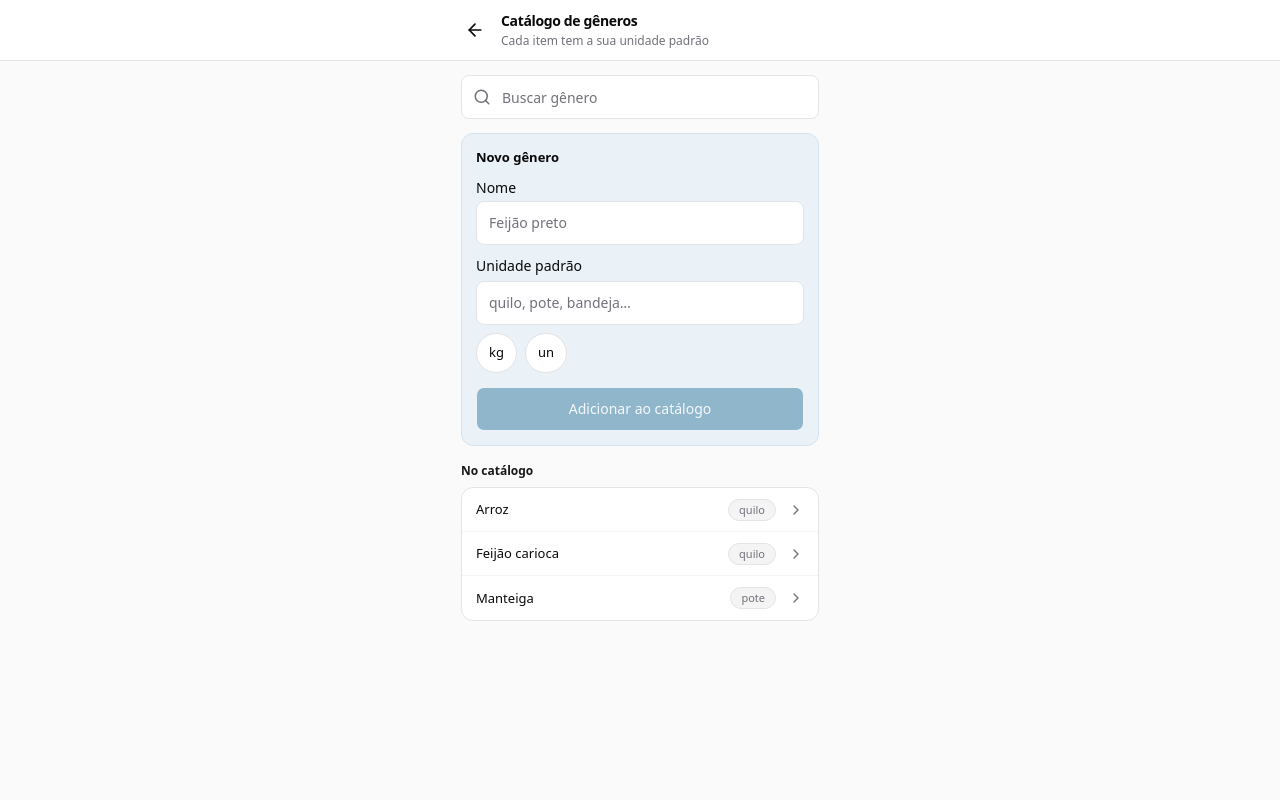
editar um gênero › carrega o gênero da lista no mesmo cartão e salva o nome novo
Click the button with aria-label "Editar Manteiga".
click(505, 598)  # box [462,576,818,620]
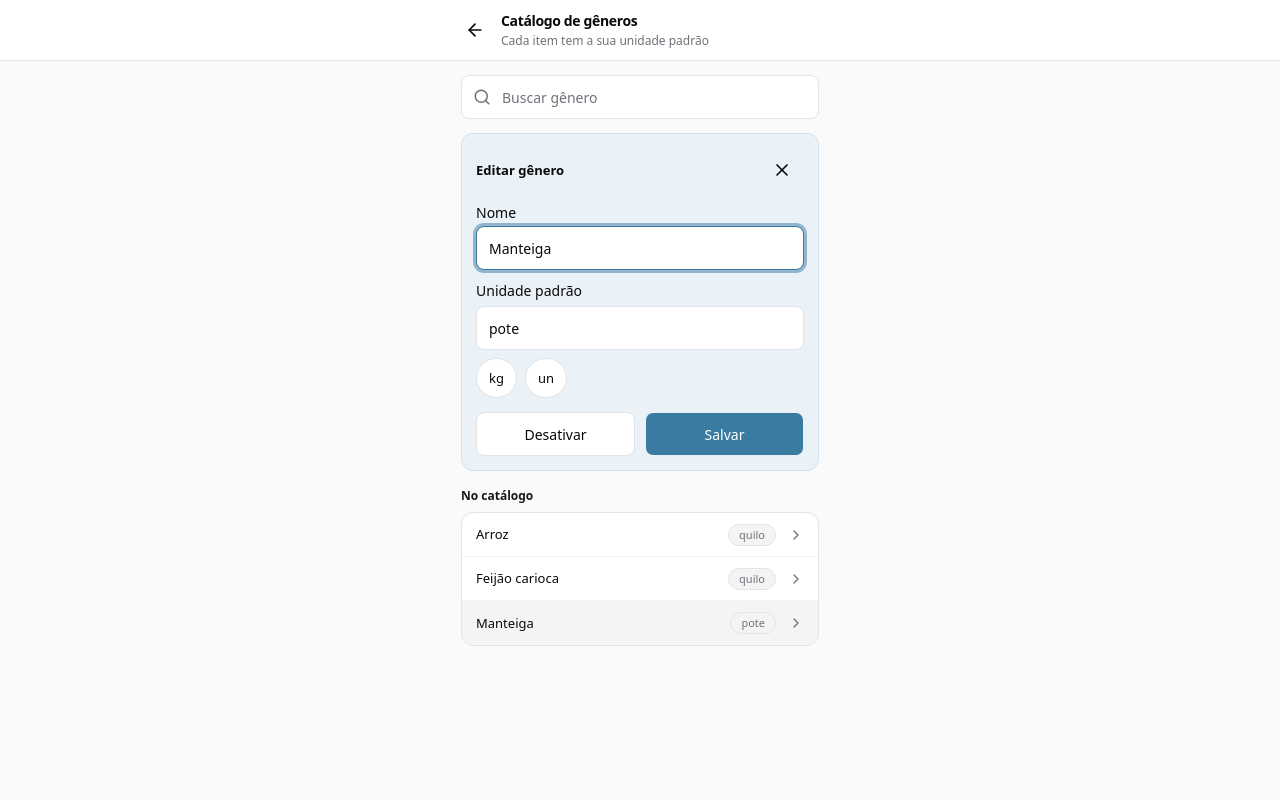
Result: the text "Editar gênero" is shown at [476,161,564,179]
Result: the field labelled "Nome" holds "Manteiga"
Result: the field labelled "Unidade padrão" holds "pote" at [476,306,804,350]
Replace the text in the field labelled "Nome" with "Manteiga com sal" at (640, 248), box [476,226,804,270]
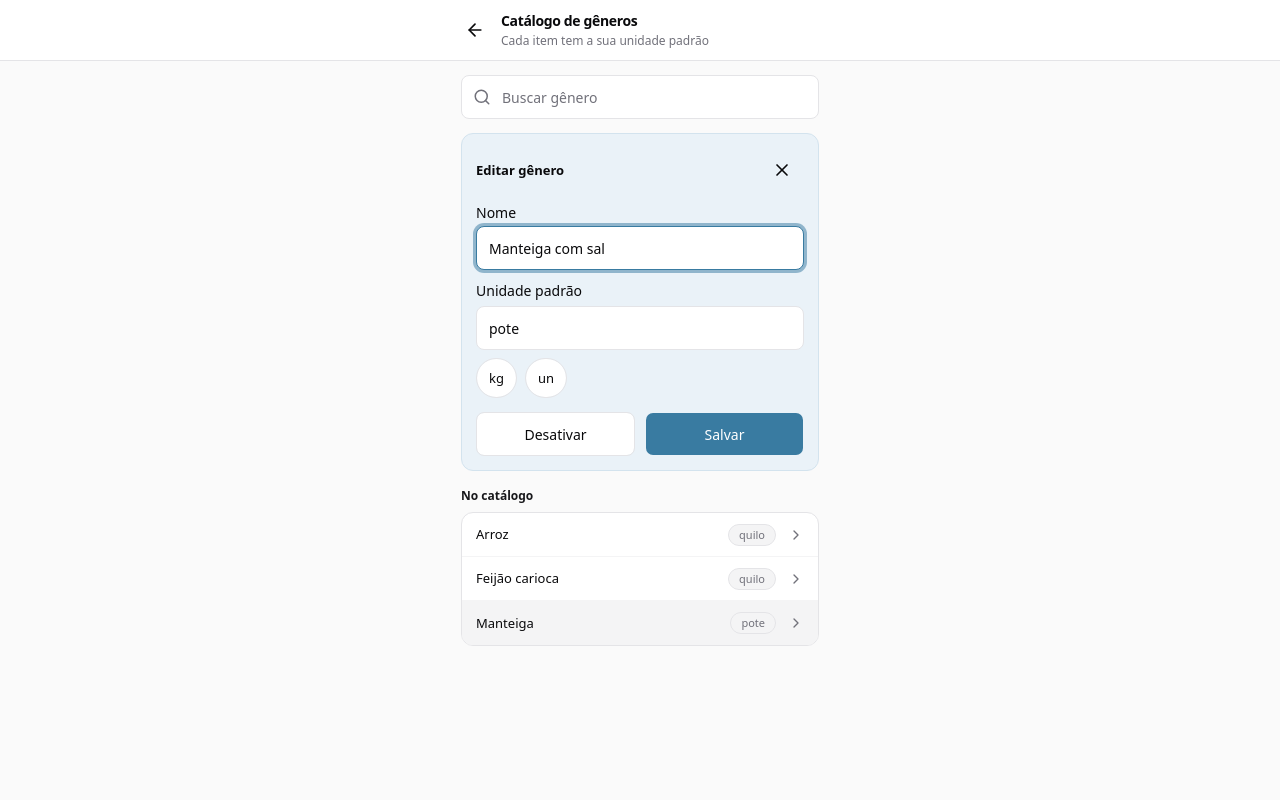
Click the button "Salvar".
click(724, 434)  # box [645,412,804,456]
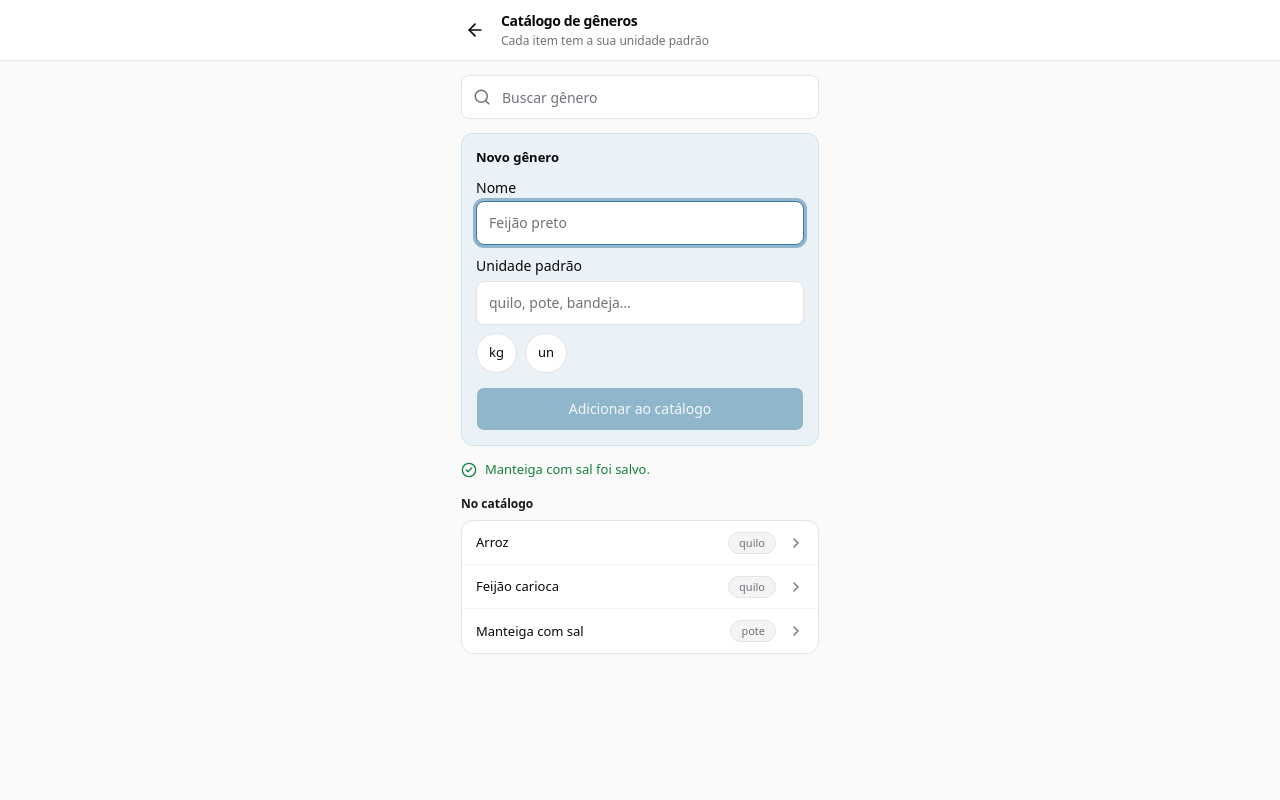
Result: the text "Novo gênero" is shown at [476,148,559,166]
